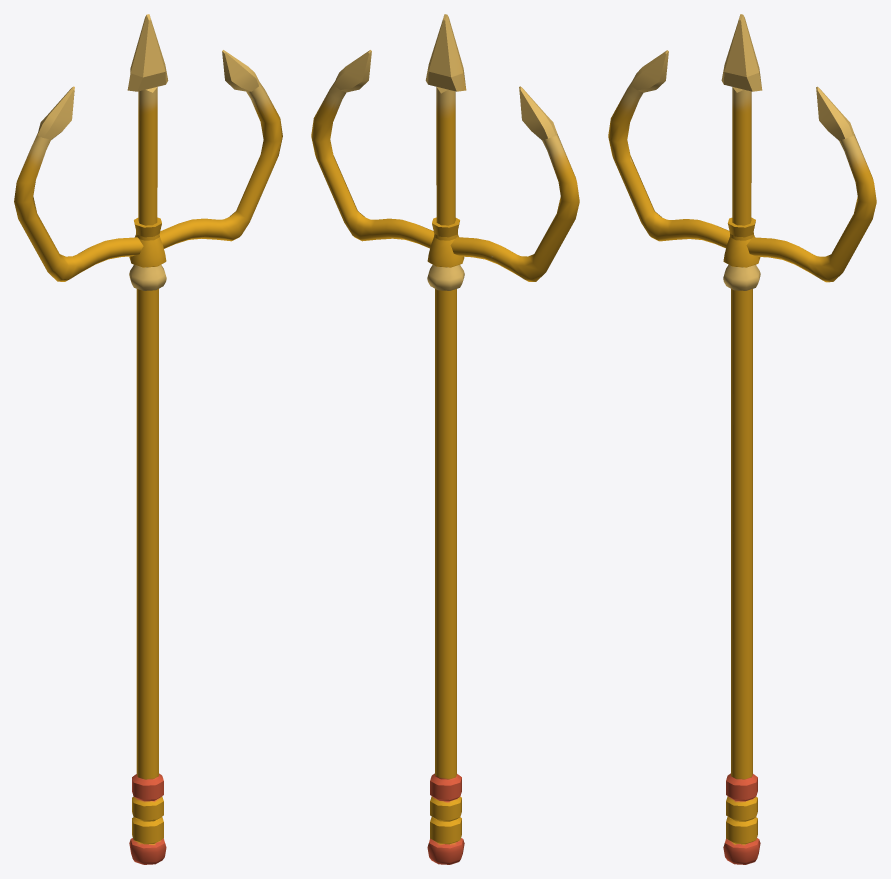
Rendered from Trident.fbx.
3 views of the same model, side by side, from view 1: azimuth 30°, elevation 25°; view 2: azimuth 150°, elevation 25°; view 3: azimuth 330°, elevation 25° (orthographic).
Parts seen in each view (by area): view 1: Trident; view 2: Trident; view 3: Trident.
Boxes of the visible parts, left/top/right/bottom form: Trident: left=14, top=14, right=282, bottom=864; Trident: left=311, top=14, right=579, bottom=864; Trident: left=608, top=14, right=876, bottom=864.
Bounding box in the file's own units: 238 × 717 × 29.92.
